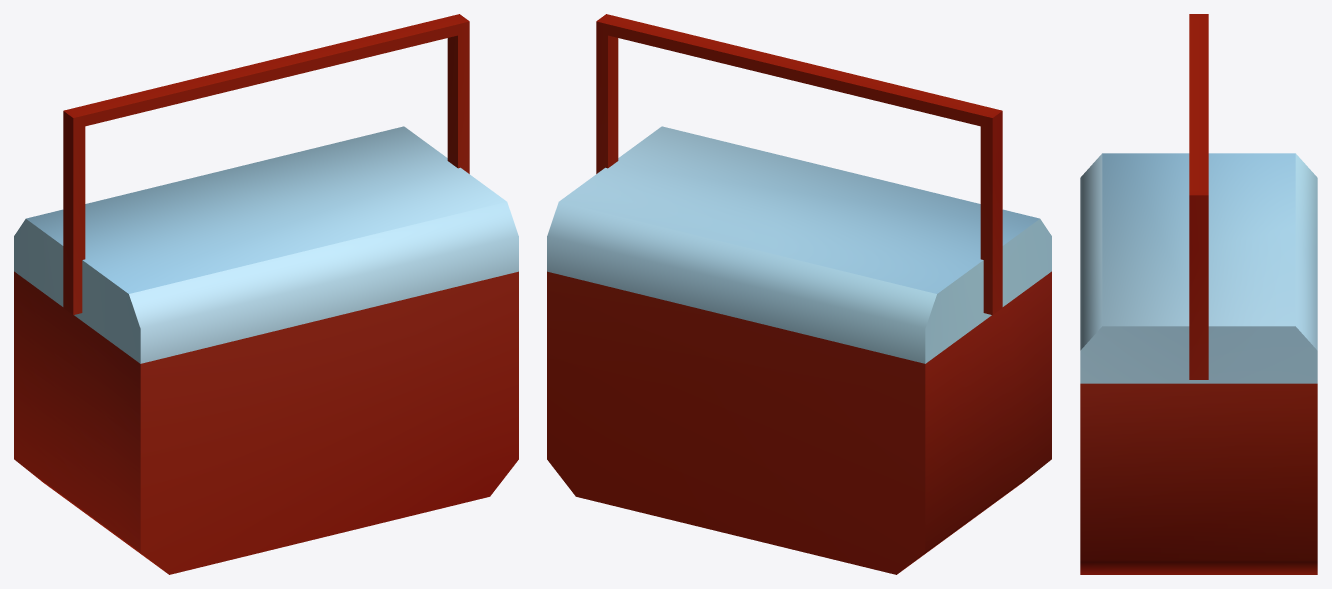
Rendered from prop.cooler.glb.
3 views of the same model, side by side, from view 1: azimuth 30°, elevation 25°; view 2: azimuth 150°, elevation 25°; view 3: azimuth 270°, elevation 25° (orthographic). The views are drawn at different scales.
Parts seen in each view (by area): view 1: Cube019; view 2: Cube019; view 3: Cube019.
Part boxes in pixels (<box>): Cube019: <box>14,14,518,574</box>; Cube019: <box>547,14,1051,574</box>; Cube019: <box>1080,14,1317,574</box>.
Bounding box in the file's own units: 0.4408 × 0.45 × 0.2435.
1 material, 1 textured.
